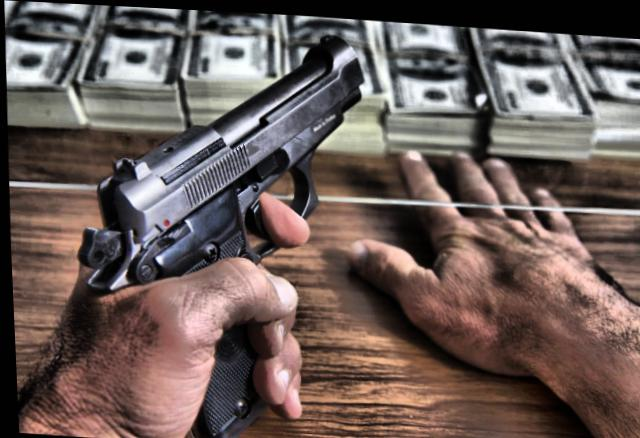pistol: (63, 15, 381, 438)
